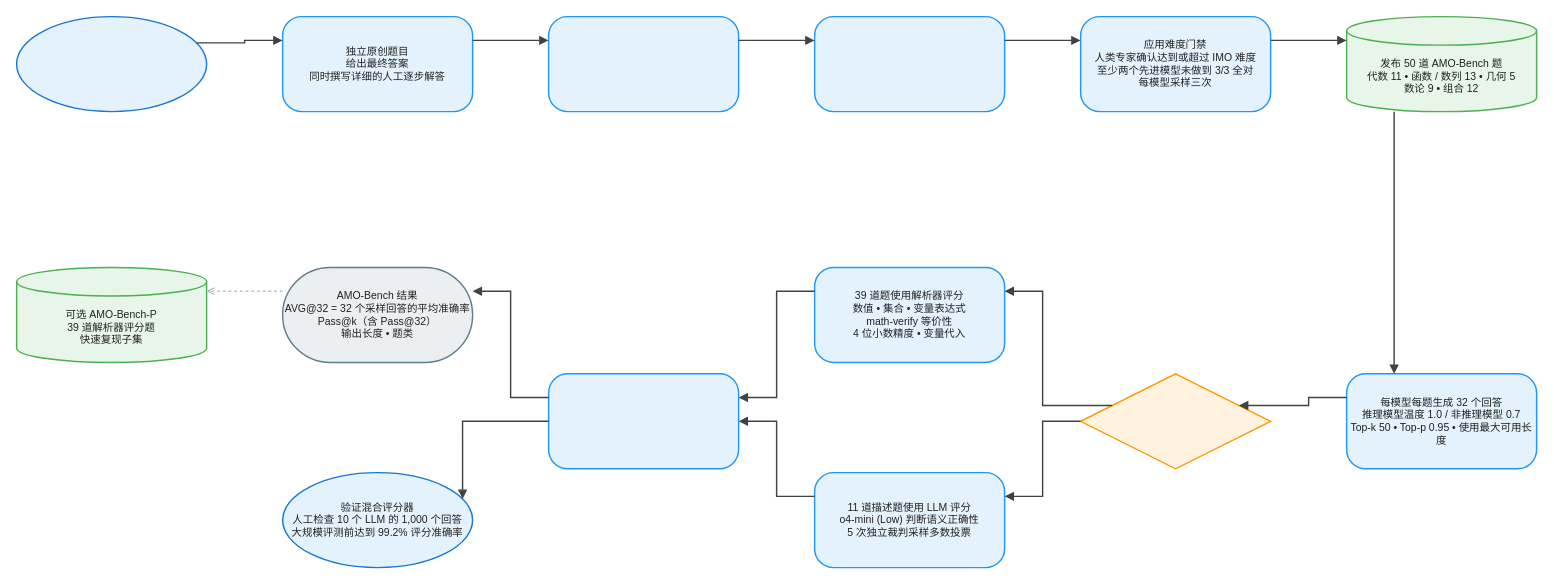
The diagram is 1554 pixels wide and 585 high, and some of its shapes have lost their labels. Each missing label, with the box of its shape:
属于哪种答案类型？: (1079, 373, 1271, 469)
得到单回答正确性 合并解析器与 LLM 裁判结果 预评测期间人工复核后处理: (547, 373, 739, 469)
招募数学专家 来自顶尖高校 / 教育机构 数学奥赛获奖者或有竞赛命题经验: (15, 15, 207, 112)
核验真正原创性 与 AIME24/25 等现有集合做 10-gram 匹配 网页搜索 + 专家回忆相似竞赛题: (813, 15, 1005, 112)
至少 3 名专家盲审质量 检查题面无歧义且逻辑正确 要求知识范围属于 MO / IMO 竞赛: (547, 15, 739, 112)
